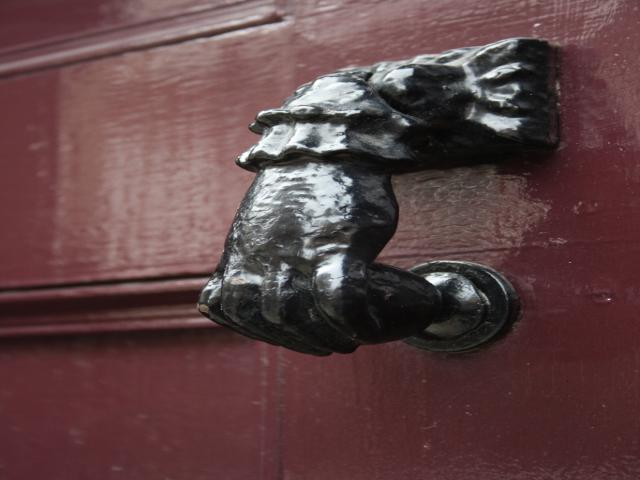Door-handle: (193, 36, 562, 358)
